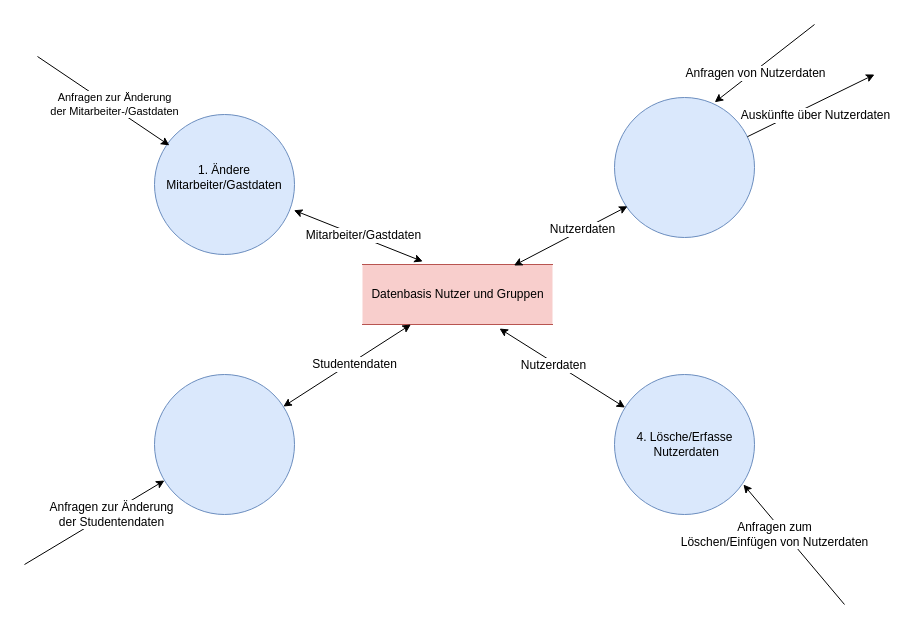
The diagram is 907 pixels wide and 630 high, and some of its shapes have lost their labels. Here are the shapes that lost their labels. From the top down, the centre of each, then its label:
the point at 684,167: 2. Beantworte Anfragen von Nutzerdaten
the point at 224,444: 3. Ändere Studentendaten
